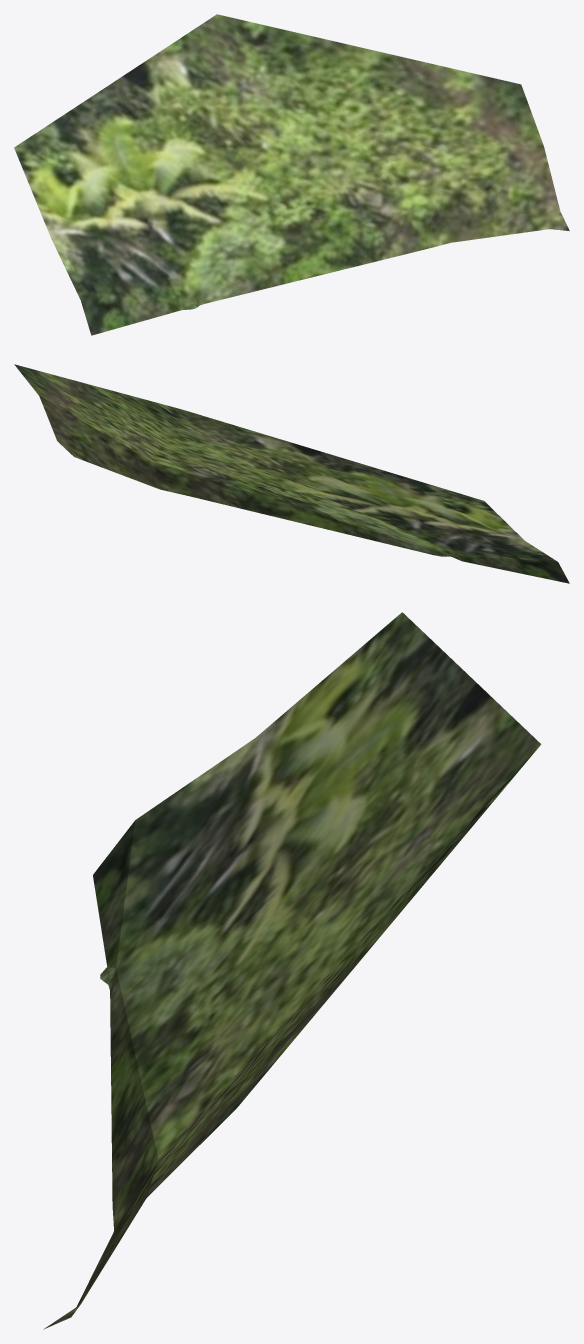
3 views of the same model, one above another, from view 1: azimuth 30°, elevation 25°; view 2: azimuth 150°, elevation 25°; view 3: azimuth 270°, elevation 25° (orthographic). The views are drawn at different scales.
Bounding box in the file's own units: 26.11 × 9.71 × 12.1.
2 materials, 2 textured.
